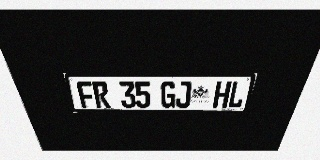3: (119, 81, 136, 108)
5: (135, 81, 151, 108)
F: (76, 81, 96, 108)
G: (161, 81, 176, 108)
H: (212, 81, 232, 108)
J: (175, 81, 192, 108)
L: (227, 81, 248, 108)
R: (92, 81, 111, 108)
